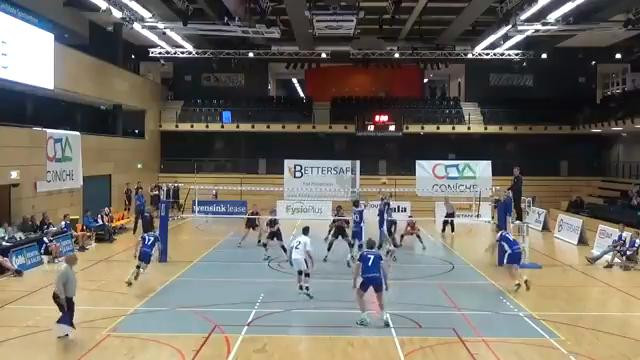alzata: (373, 186, 398, 262)
attacco: (344, 190, 371, 269)
